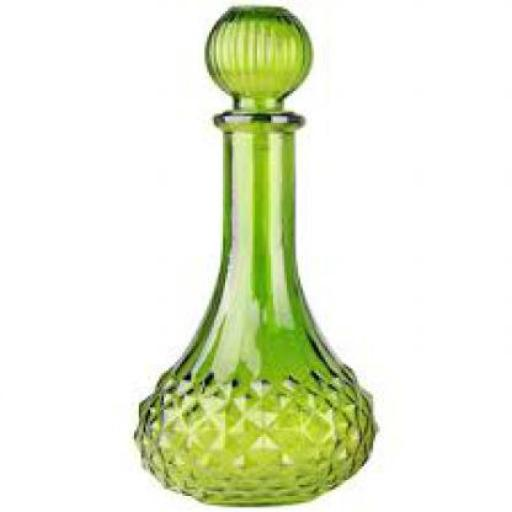glass: (134, 4, 380, 506)
